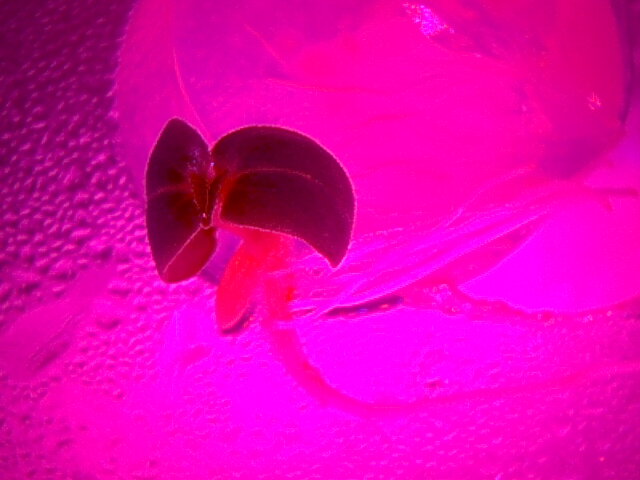seedling: (121, 103, 362, 324)
